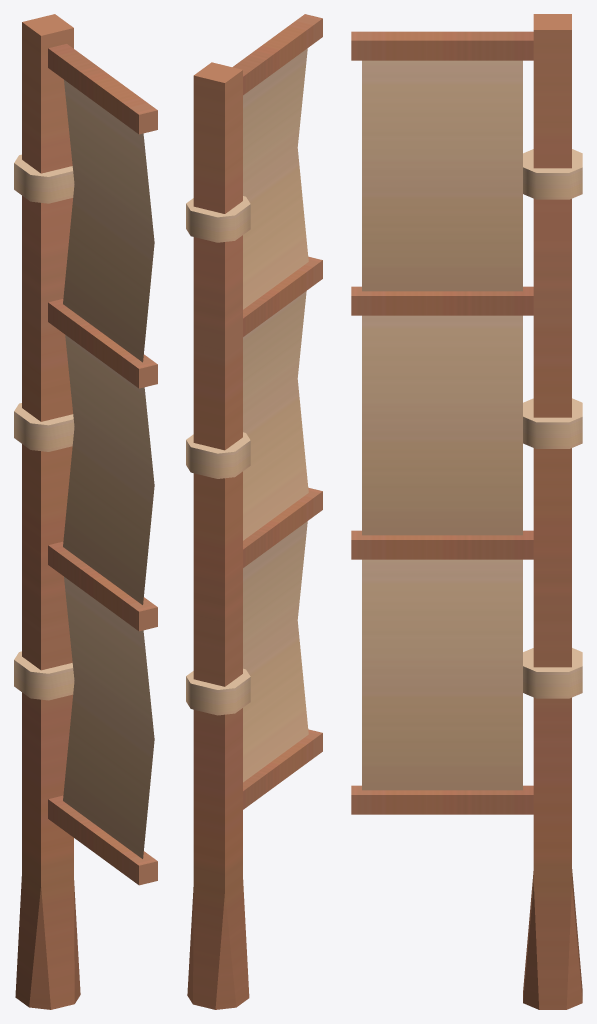
The model's file is blade.glb.
The picture shows the model from 3 angles, left to right: view 1: azimuth 30°, elevation 25°; view 2: azimuth 150°, elevation 25°; view 3: azimuth 270°, elevation 25°; orthographic projection. The views are drawn at different scales.
Visible parts, largest first — view 1: blade; view 2: blade; view 3: blade.
Boxes of the visible parts, x1,y1,x2,y2 form: blade: [14, 14, 157, 1009]; blade: [186, 14, 322, 1009]; blade: [351, 14, 582, 1009].
Size of the model in its own units: 0.111 by 2 by 0.4304.
1 material, 1 textured.
